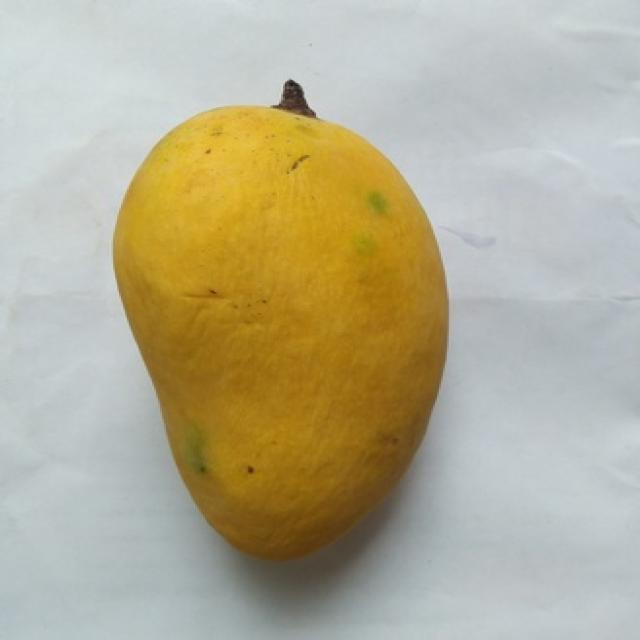Mango: (117, 104, 447, 559)
